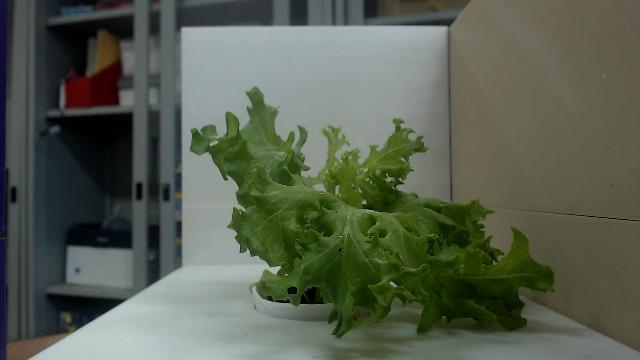Harvest Stage: (188, 84, 556, 340)
